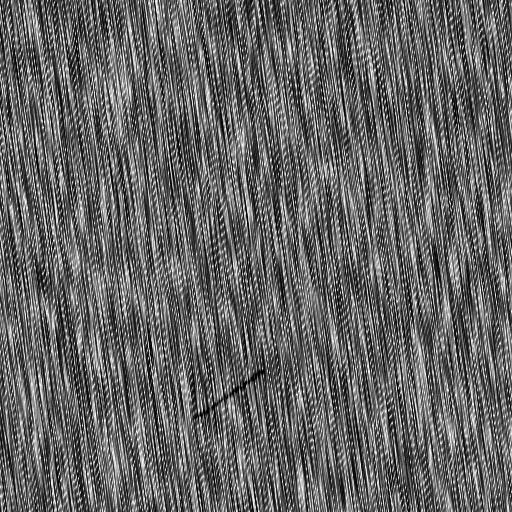DefectTypeC: (194, 367, 267, 420)
